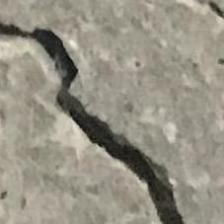Crack: (0, 22, 189, 224)
